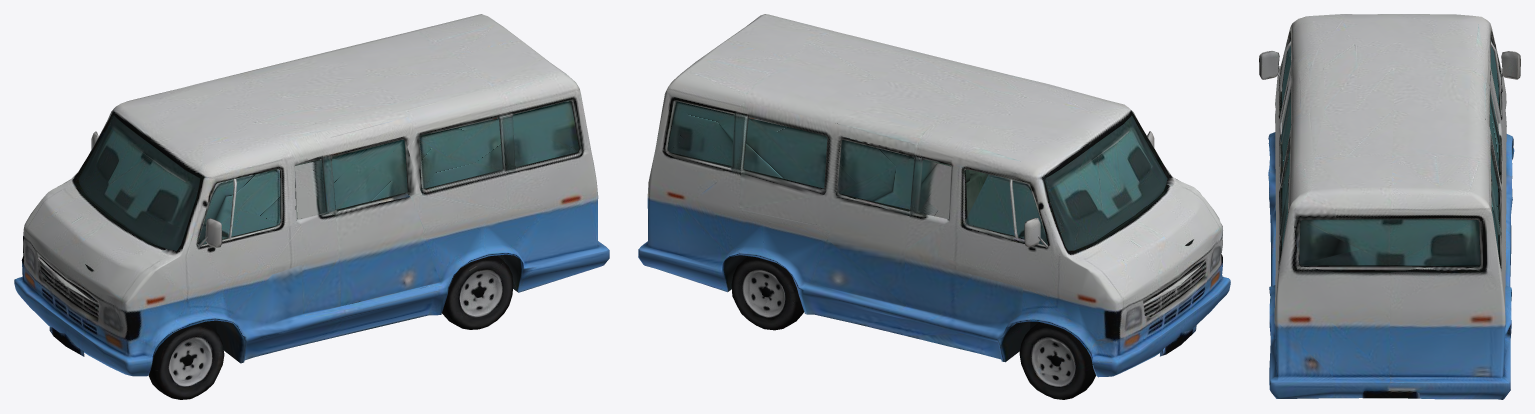
File: microbus.glb
3 views of the same model, side by side, from view 1: azimuth 30°, elevation 25°; view 2: azimuth 150°, elevation 25°; view 3: azimuth 270°, elevation 25° (orthographic). The views are drawn at different scales.
Visible parts, largest first — view 1: geometry_0; view 2: geometry_0; view 3: geometry_0.
Part boxes in pixels (x1=…): geometry_0: x1=14, y1=14, x2=609, y2=399; geometry_0: x1=638, y1=14, x2=1230, y2=399; geometry_0: x1=1259, y1=14, x2=1520, y2=399.
Bounding box in the file's own units: 1 × 0.4525 × 0.4508.
Materials: 1 (1 with a texture image).
